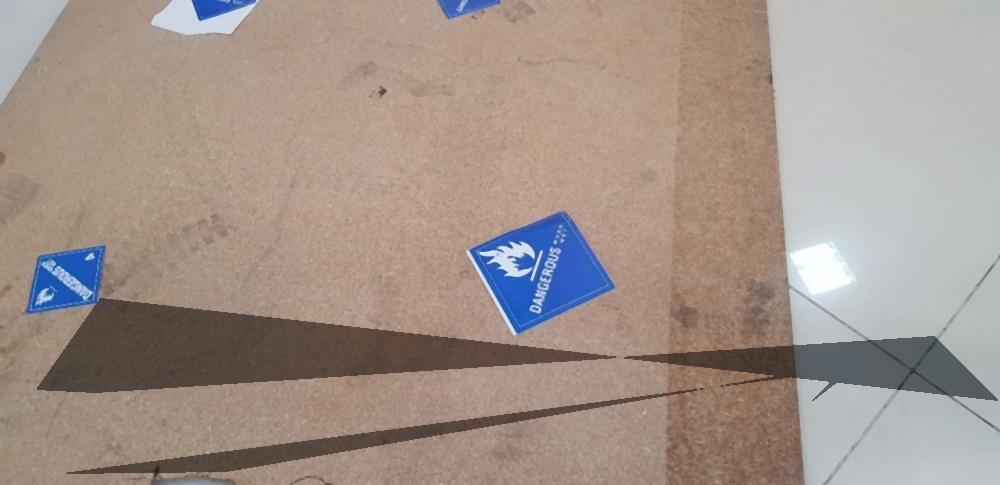dangerous-when-wet: (467, 211, 612, 334), (32, 246, 105, 316), (184, 1, 256, 22), (435, 1, 500, 21)
